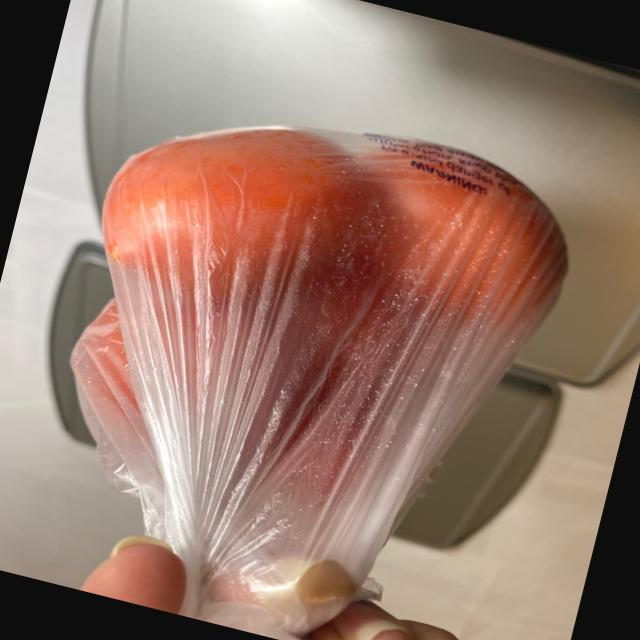tomato: (38, 74, 598, 564)
